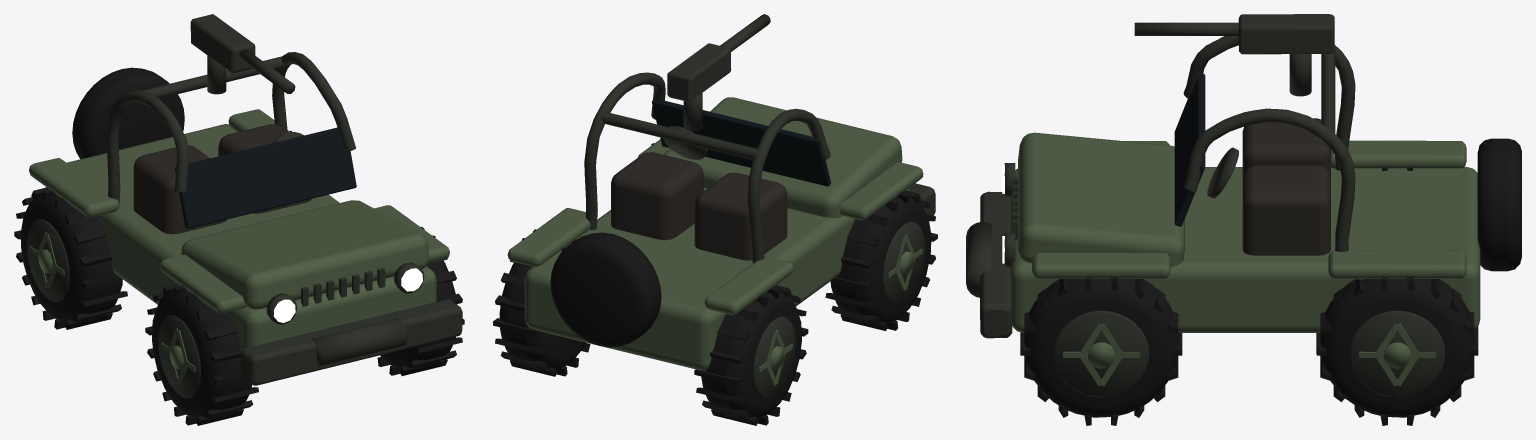
Rendered from jeep_std.glb.
3 views of the same model, side by side, from view 1: azimuth 30°, elevation 25°; view 2: azimuth 150°, elevation 25°; view 3: azimuth 270°, elevation 25° (orthographic). The views are drawn at different scales.
Parts seen in each view (by area): view 1: krop_net; view 2: krop_net; view 3: krop_net.
Part boxes in pixels (x1,y1,x2,y2): krop_net: (14,14,464,425); krop_net: (493,14,937,425); krop_net: (966,14,1521,425).
Size of the model in its own units: 1.04 by 1.15 by 1.71.
